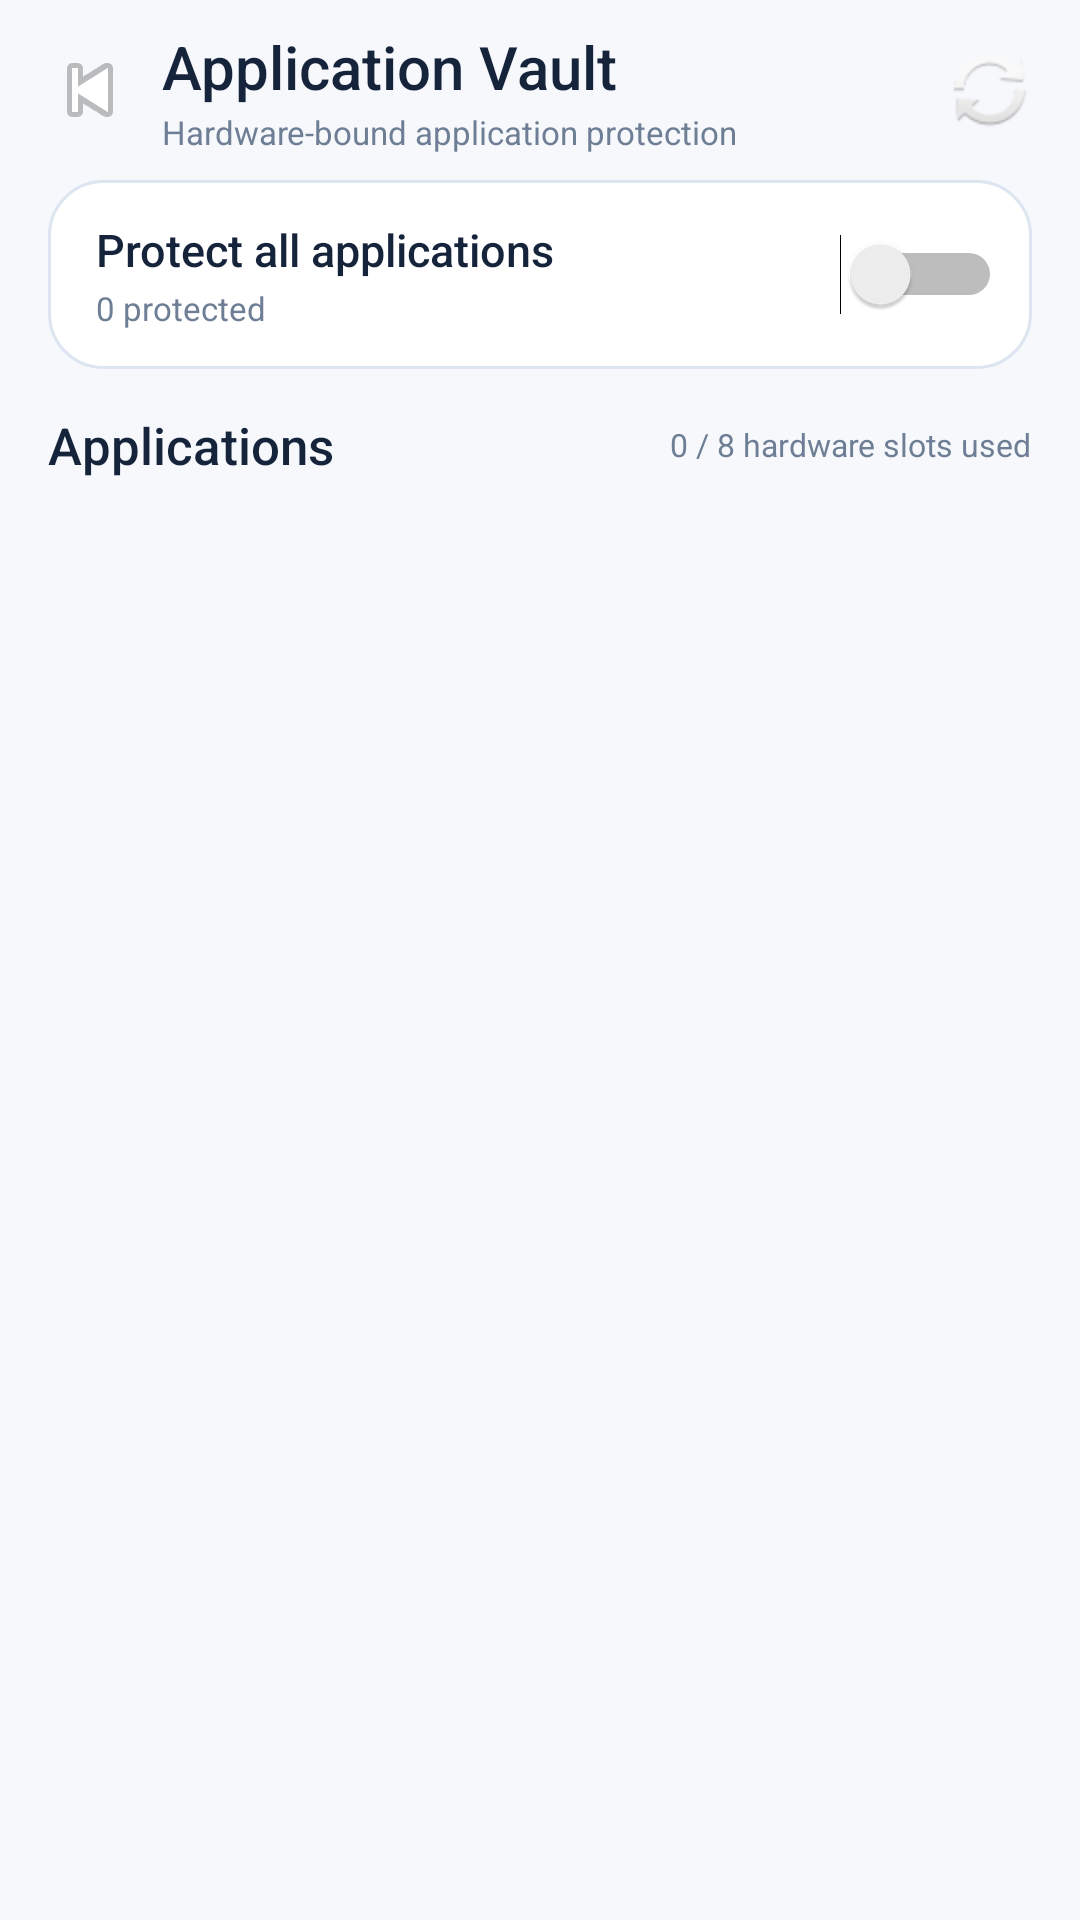

Icons on this 1080*1920 Android screen, each with the point to tap as point (x, y):
Back: point (90, 90)
Refresh applications: point (989, 94)
